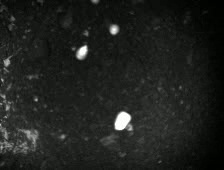corn: (113, 110, 132, 132), (73, 43, 91, 63), (106, 22, 122, 38), (87, 1, 104, 6)
